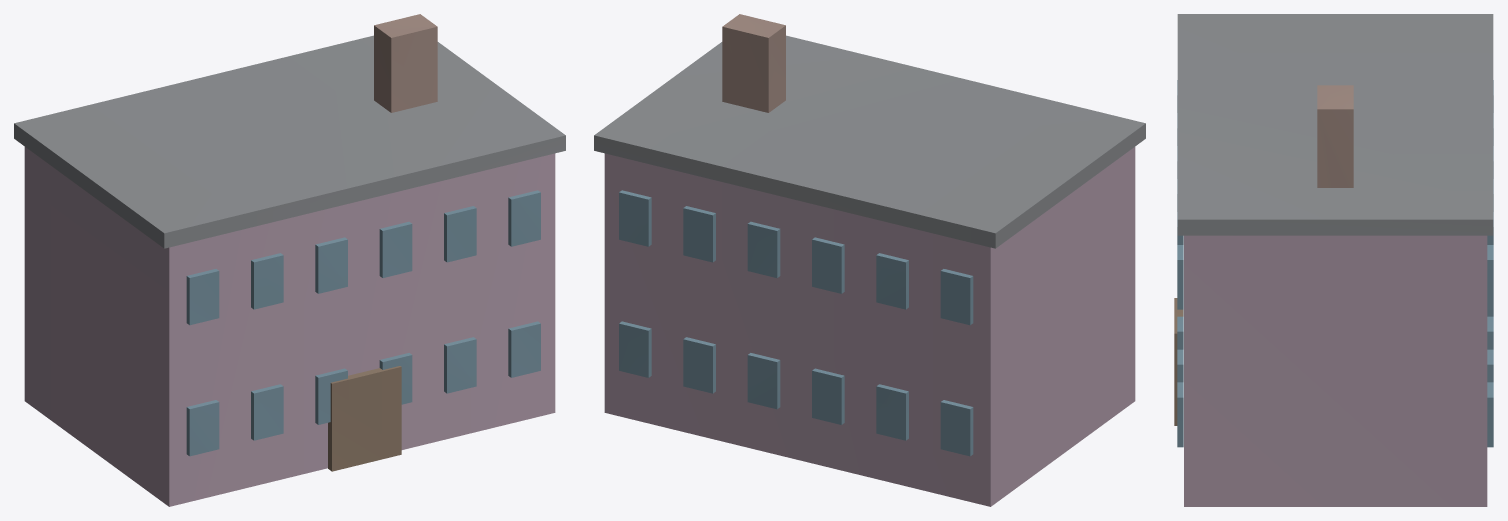
The model's file is factory-04.glb.
3 views of the same model, side by side, from view 1: azimuth 30°, elevation 25°; view 2: azimuth 150°, elevation 25°; view 3: azimuth 270°, elevation 25° (orthographic). The views are drawn at different scales.
Visible parts, largest first — view 1: world; view 2: world; view 3: world.
Part boxes in pixels (<box>): world: <box>14,14,565,506</box>; world: <box>594,14,1145,506</box>; world: <box>1174,14,1493,506</box>.
Size of the model in its own units: 1.91 by 1.61 by 1.26.
